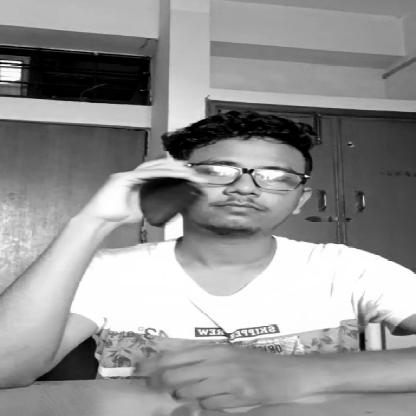Normal: (179, 129, 309, 223)
